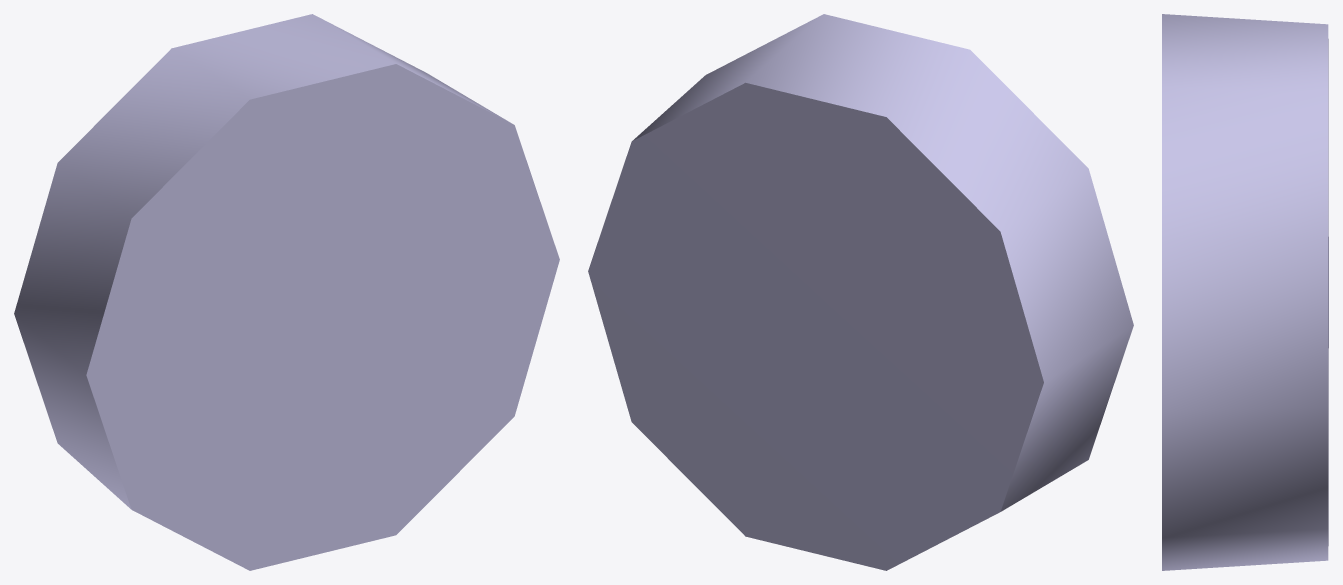
File: INST_SILVERPENNY.obj
3 views of the same model, side by side, from view 1: azimuth 30°, elevation 25°; view 2: azimuth 150°, elevation 25°; view 3: azimuth 270°, elevation 25° (orthographic). The views are drawn at different scales.
Parts seen in each view (by area): view 1: Sphere02; view 2: Sphere02; view 3: Sphere02.
Boxes of the visible parts, left/top/right/bottom form: Sphere02: left=14, top=14, right=559, bottom=570; Sphere02: left=588, top=14, right=1133, bottom=570; Sphere02: left=1162, top=14, right=1328, bottom=570.
Size of the model in its own units: 42.28 by 40.21 by 12.57.
